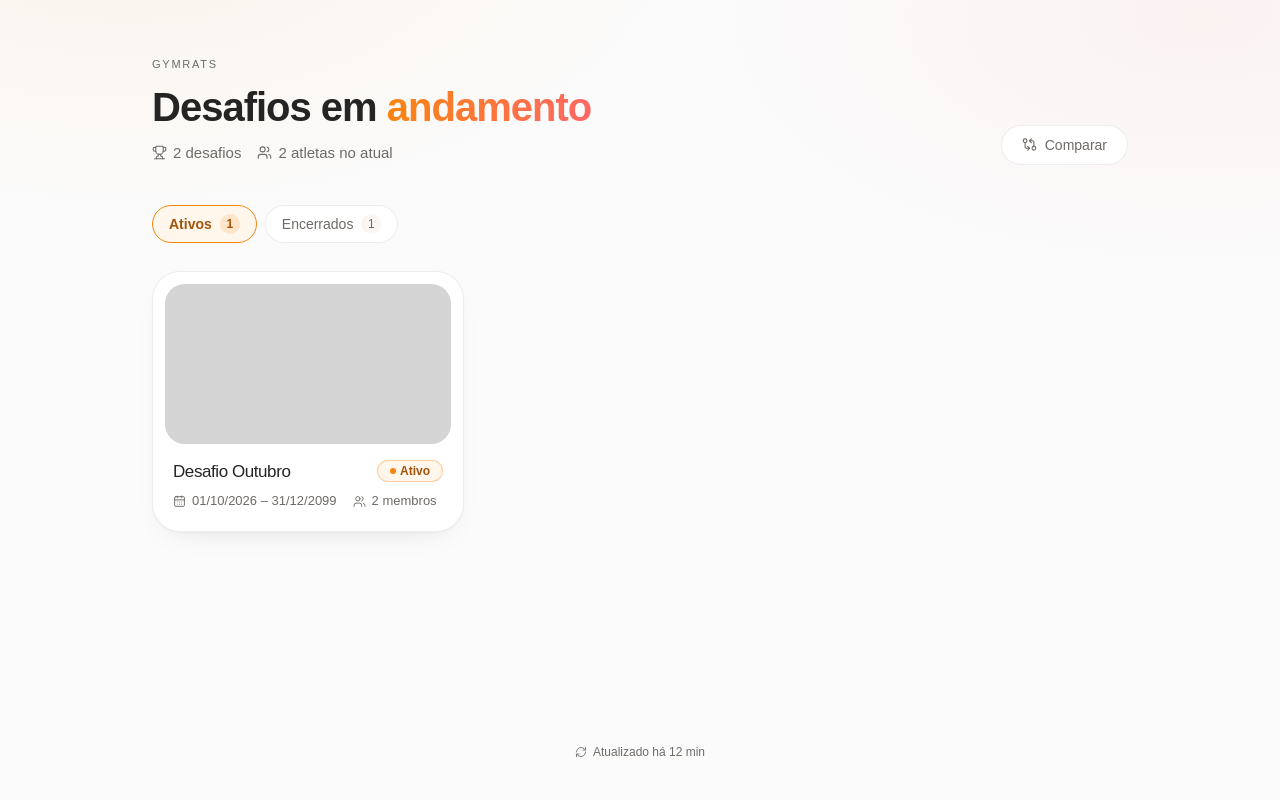
Test: ChallengesPage › filters by status with counts, defaulting to active
Expected: the heading "Desafio Outubro" is shown, [173, 460, 290, 483]
Expected: the button "Ativos 1" is shown, [152, 205, 257, 243]
What coordinates should you click on to do the following:
click the button "Encerrados 1"
I would click on:
 (332, 224)
Its box is [265, 205, 398, 243].
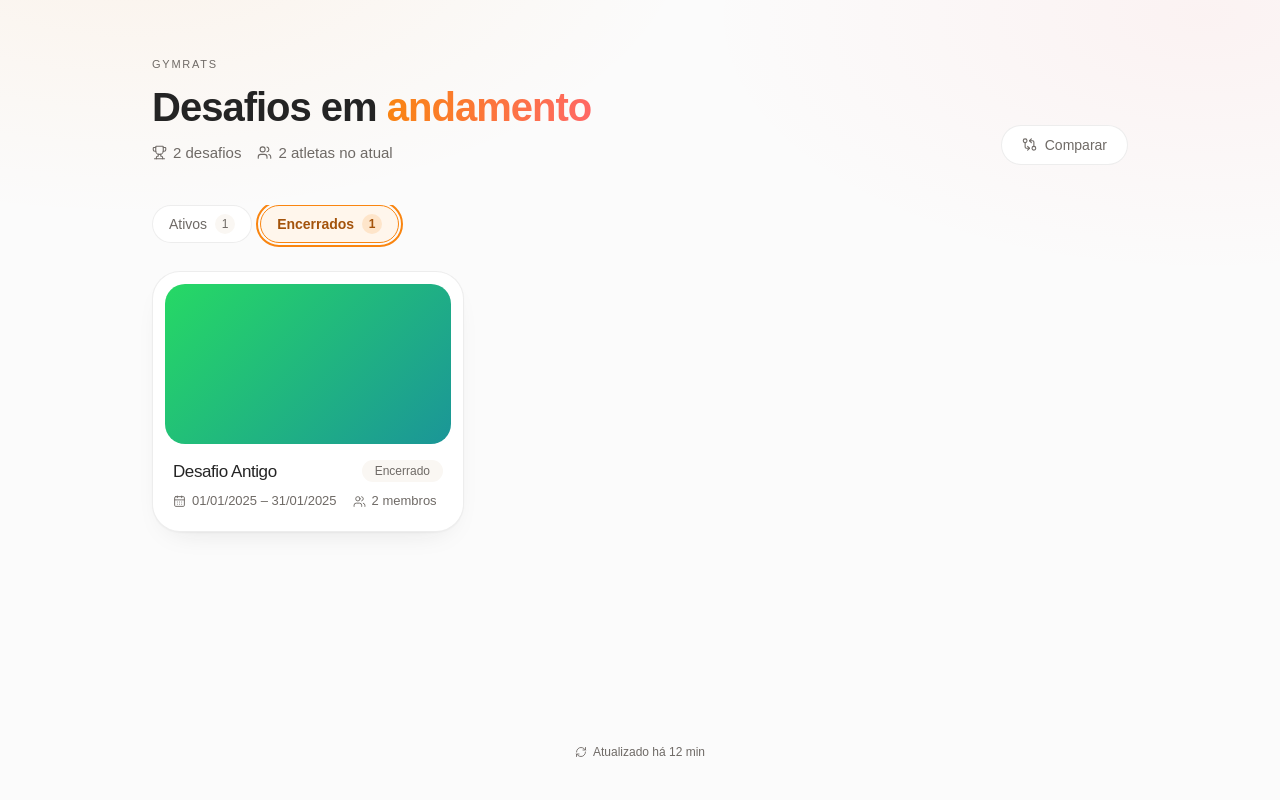
Result: the text "Encerrado" is shown at [362, 460, 443, 482]
Result: the link "Desafio Outubro" is gone
